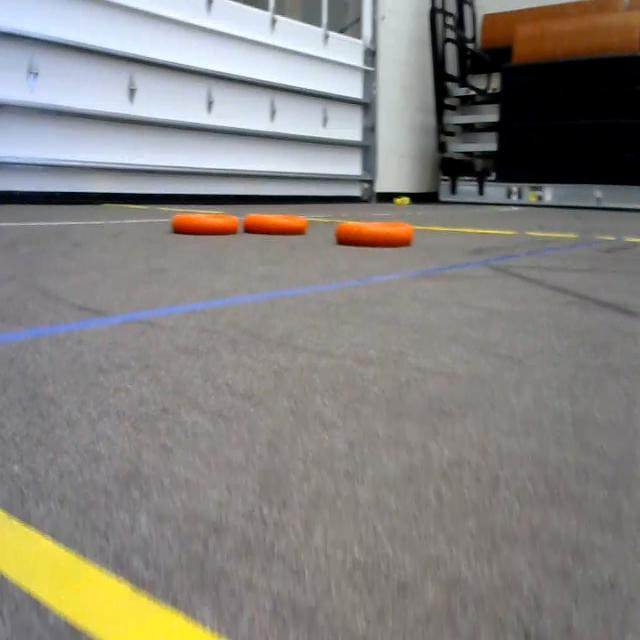note: (333, 211, 421, 256), (241, 196, 315, 247), (164, 201, 245, 244)
